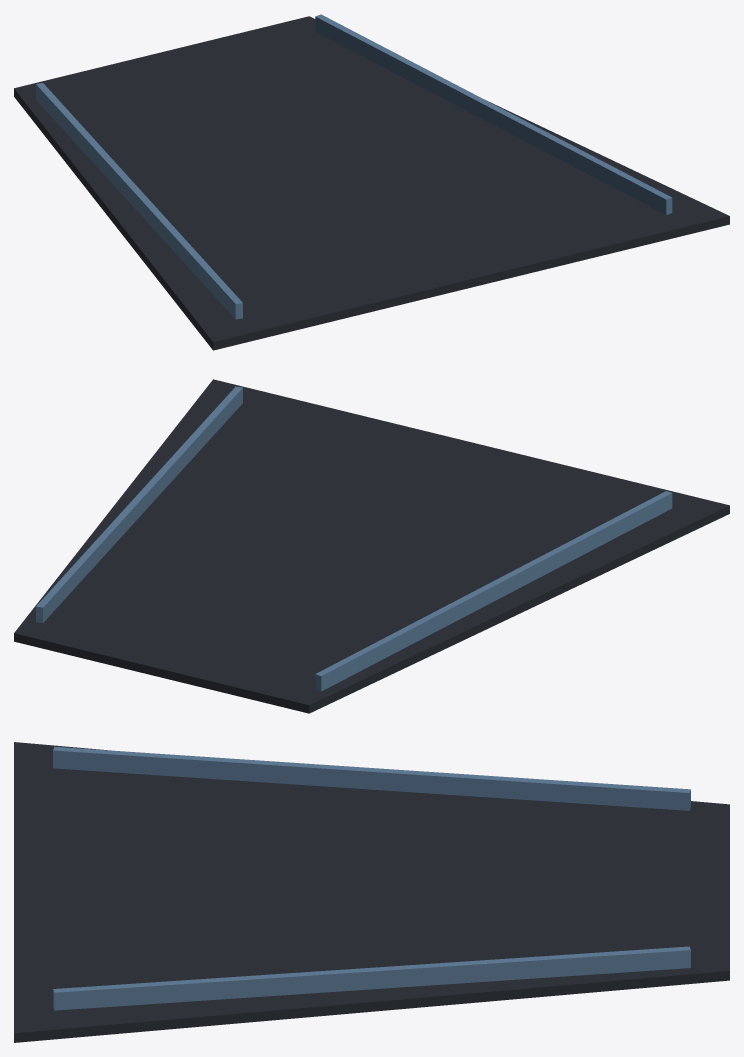
Rendered from road_future_connector_lod2.glb.
3 renders of one model, top to bottom at view 1: azimuth 30°, elevation 25°; view 2: azimuth 150°, elevation 25°; view 3: azimuth 270°, elevation 25°, orthographic. The views are drawn at different scales.
Visible parts, largest first — view 1: body; view 2: body; view 3: body.
Part boxes in pixels (box(x1,y1,x2,y2)): body: box(14, 14, 729, 350); body: box(14, 379, 729, 713); body: box(14, 742, 729, 1042).
Bounding box in the file's own units: 7.7 × 0.34 × 8.
